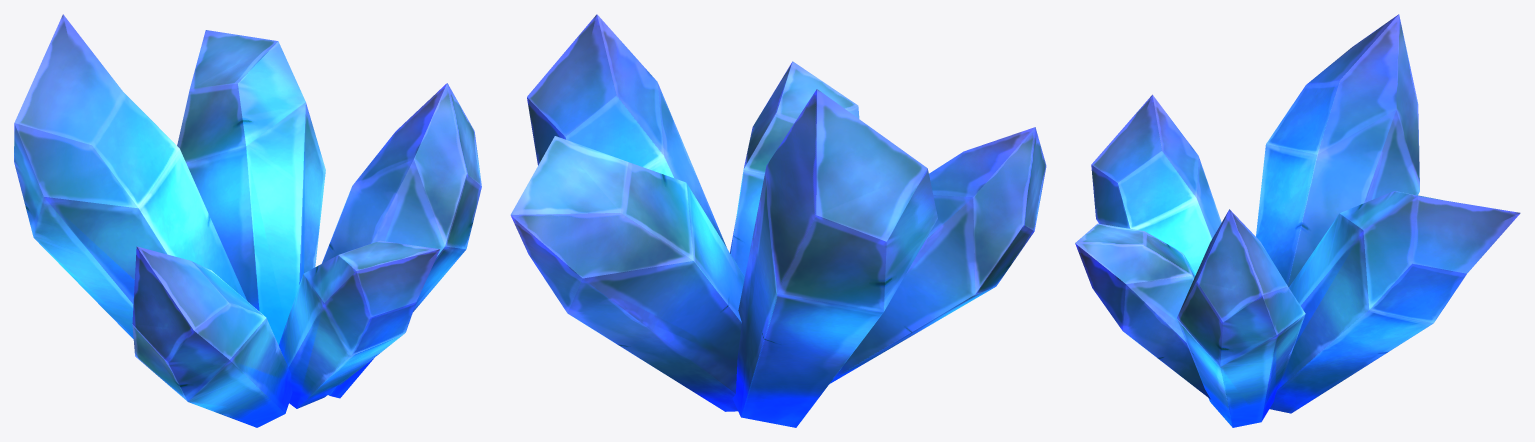
Rendered from cristales.fbx.
3 views of the same model, side by side, from view 1: azimuth 30°, elevation 25°; view 2: azimuth 150°, elevation 25°; view 3: azimuth 270°, elevation 25° (orthographic). The views are drawn at different scales.
Parts seen in each view (by area): view 1: Crystal, Crystal.001, Crystal.004, Crystal.002, Crystal.003; view 2: Crystal, Crystal.001, Crystal.004, Crystal.002, Crystal.003; view 3: Crystal.001, Crystal, Crystal.002, Crystal.004, Crystal.003.
Boxes of the visible parts, bbox=[...] form: Crystal: bbox=[14, 14, 247, 338]; Crystal.001: bbox=[177, 30, 325, 344]; Crystal.004: bbox=[132, 246, 292, 427]; Crystal.002: bbox=[321, 83, 481, 398]; Crystal.003: bbox=[279, 240, 440, 408]; Crystal: bbox=[732, 89, 937, 427]; Crystal.001: bbox=[510, 136, 744, 411]; Crystal.004: bbox=[830, 127, 1046, 383]; Crystal.002: bbox=[527, 14, 726, 247]; Crystal.003: bbox=[730, 61, 859, 276]; Crystal.001: bbox=[1270, 191, 1520, 413]; Crystal: bbox=[1256, 14, 1419, 287]; Crystal.002: bbox=[1176, 209, 1305, 427]; Crystal.004: bbox=[1091, 94, 1221, 273]; Crystal.003: bbox=[1075, 223, 1210, 399].
Bounding box in the file's own units: 328 × 282 × 338.
Materials: 1 (1 with a texture image).
